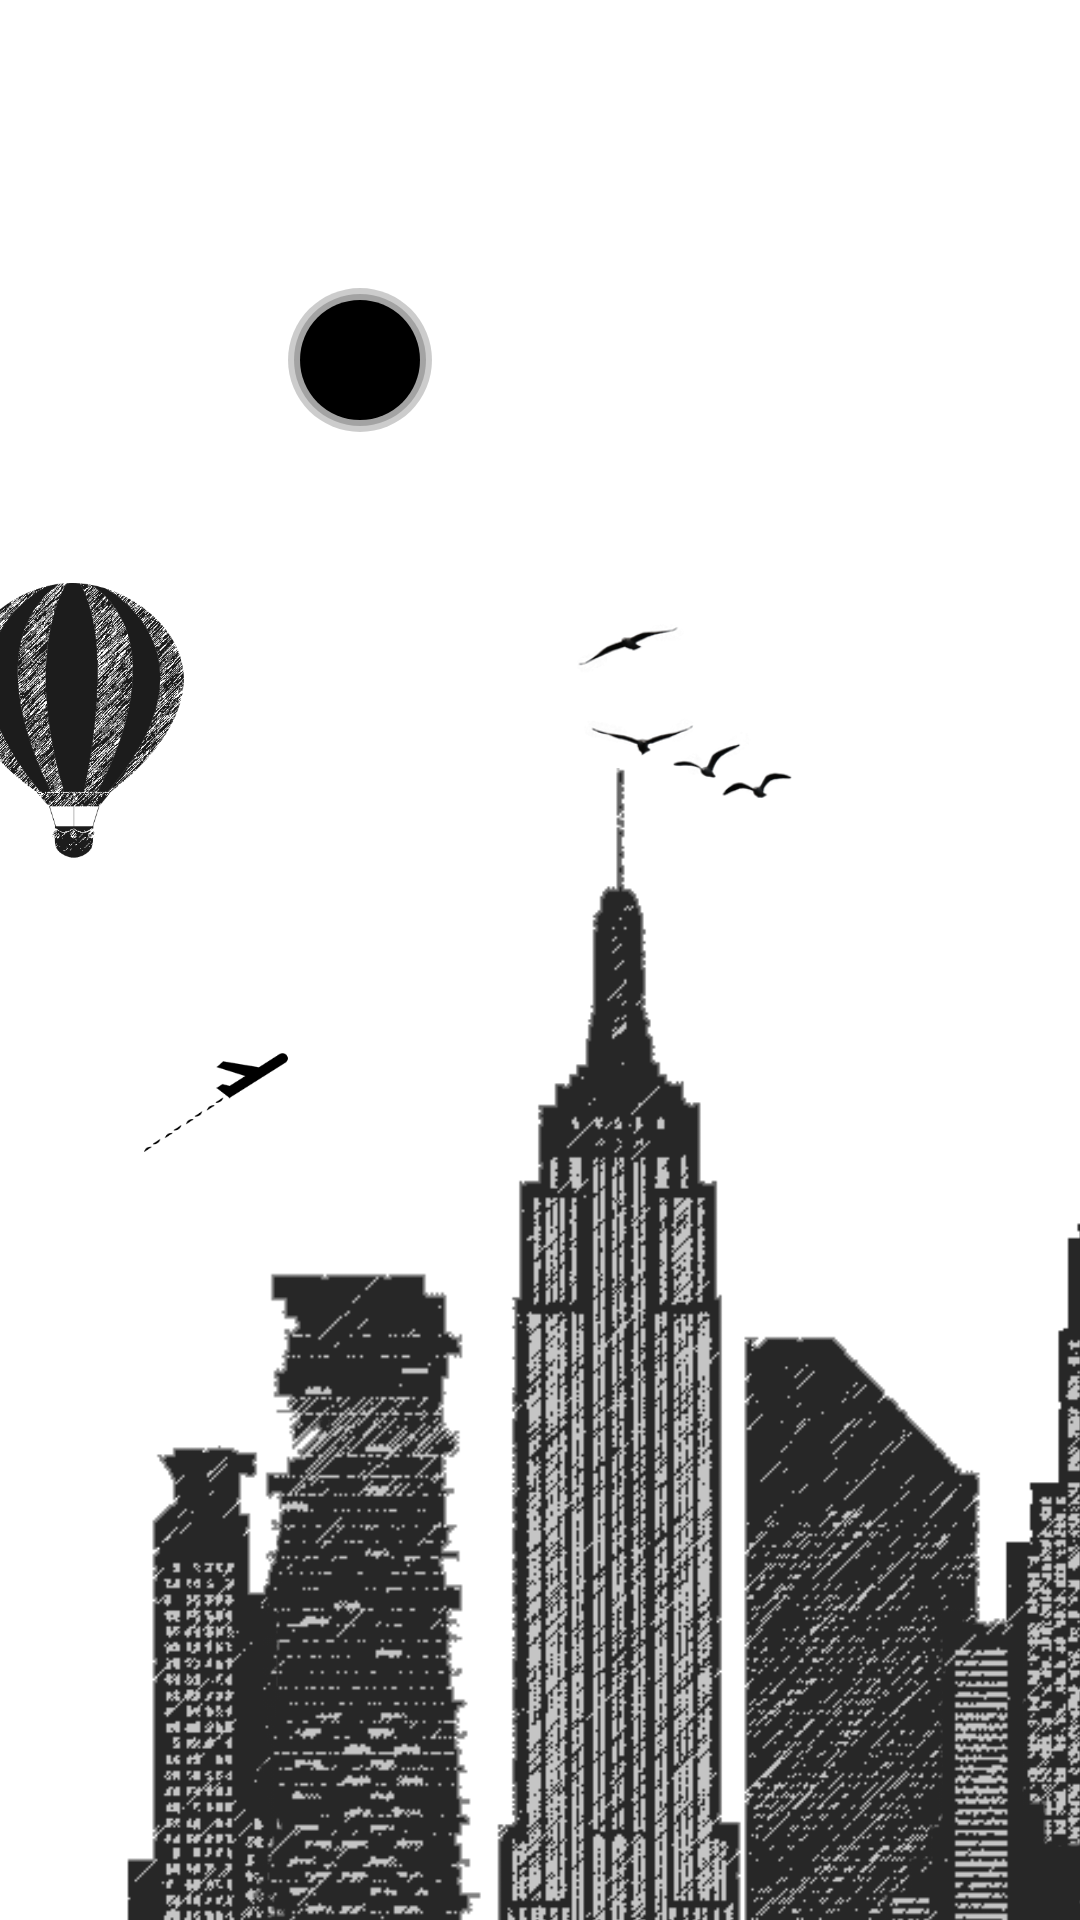

Icon click points for this 1080 x 1920 phone screenshot, format (x,y):
bird: (685,712)
plane: (216,1102)
